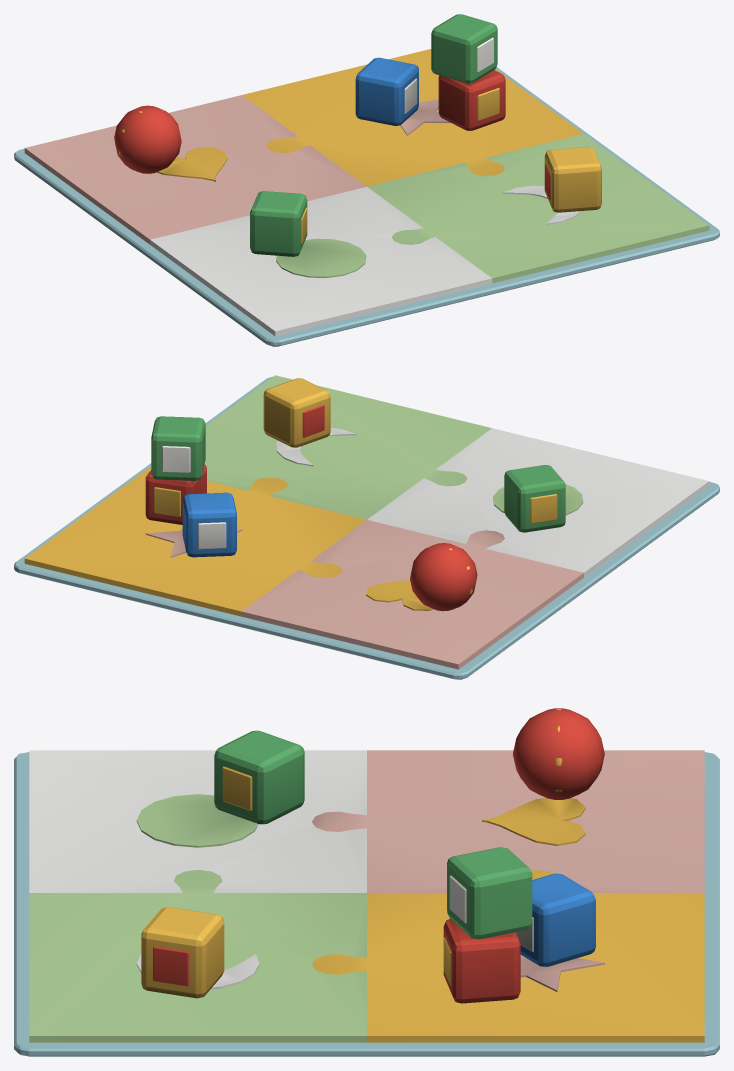
The model's file is playMat.glb.
3 renders of one model, top to bottom at view 1: azimuth 30°, elevation 25°; view 2: azimuth 150°, elevation 25°; view 3: azimuth 270°, elevation 25°, orthographic. The views are drawn at different scales.
Visible parts, largest first — view 1: body; view 2: body; view 3: body.
Part boxes in pixels (x1=…): body: x1=14, y1=14, x2=719, y2=346; body: x1=14, y1=375, x2=719, y2=679; body: x1=14, y1=708, x2=719, y2=1056.
Size of the model in its own units: 0.92 by 0.202 by 0.92.
